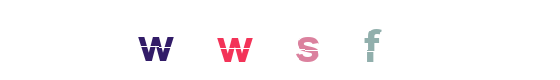F: (273, 0, 353, 80)
S: (241, 0, 321, 80)
W: (115, 0, 195, 80), (194, 0, 274, 80)
